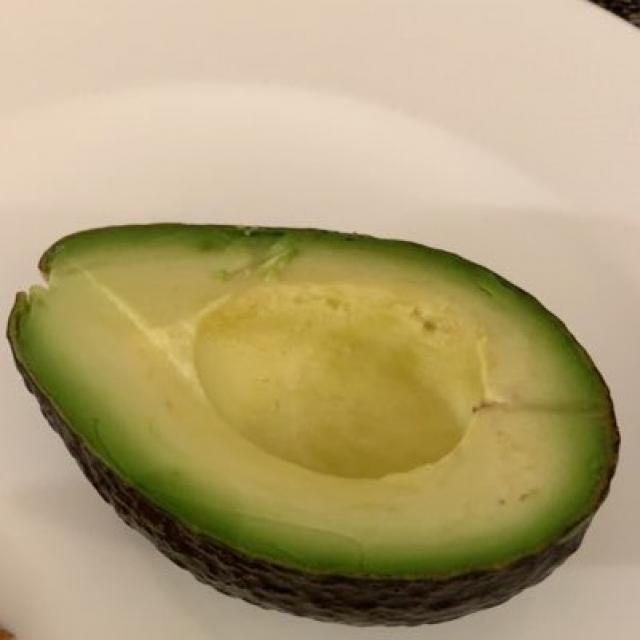avocado: (18, 226, 591, 593)
